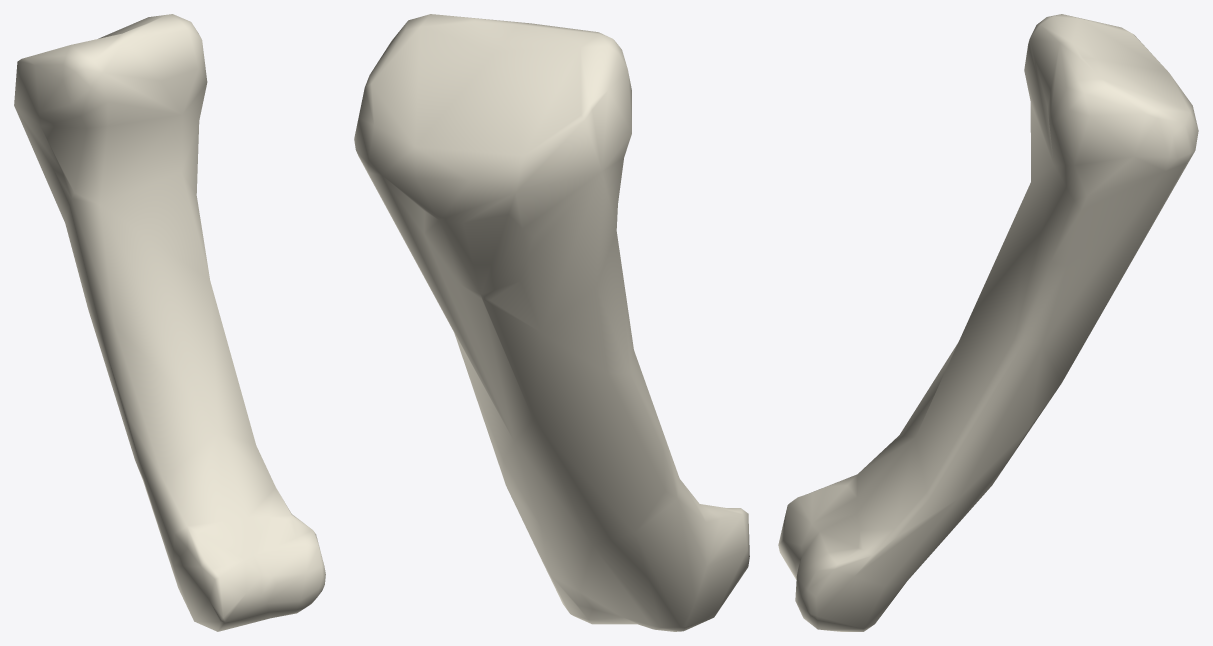
3 renders of one model, left to right at view 1: azimuth 30°, elevation 25°; view 2: azimuth 150°, elevation 25°; view 3: azimuth 270°, elevation 25°, orthographic. The views are drawn at different scales.
Parts seen in each view (by area): view 1: ZA_164e3978d469841e; view 2: ZA_164e3978d469841e; view 3: ZA_164e3978d469841e.
Part boxes in pixels (x1,y1,x2,y2): ZA_164e3978d469841e: (14,14,325,631); ZA_164e3978d469841e: (354,14,749,631); ZA_164e3978d469841e: (778,14,1198,631).
Bounding box in the file's own units: 0.0139 × 0.0404 × 0.0273.
